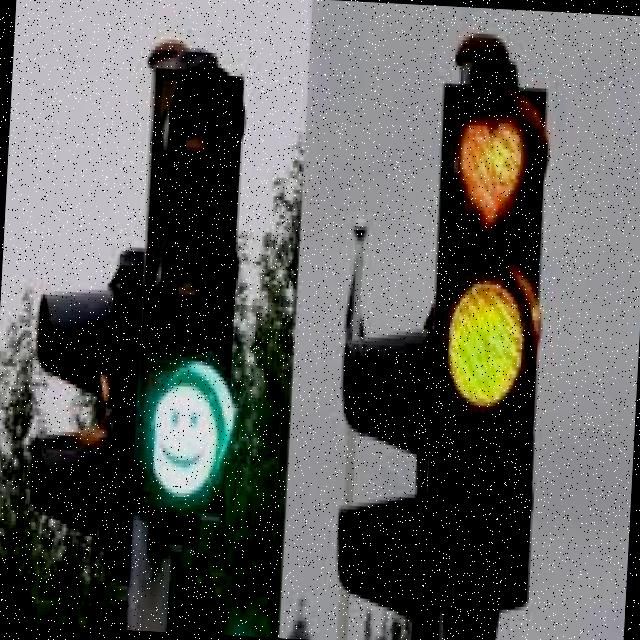Zolte swiatlo: (416, 80, 552, 600)
